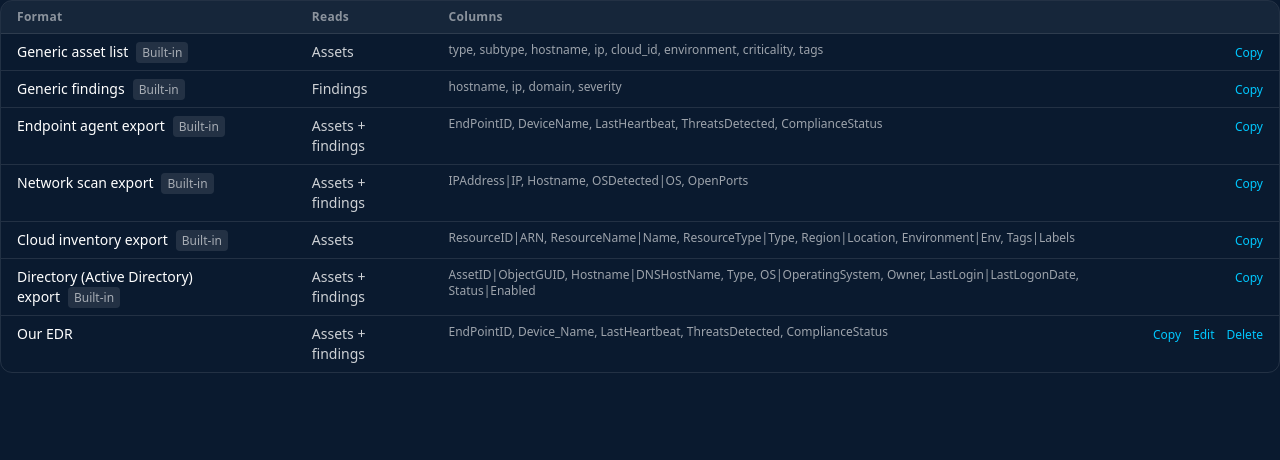
Test case: ImportProfilesPanel › deletes a custom profile after confirming
Step 1. Click the button with aria-label "Delete Our EDR" → (1245, 335), box 1226,327 -> 1263,343
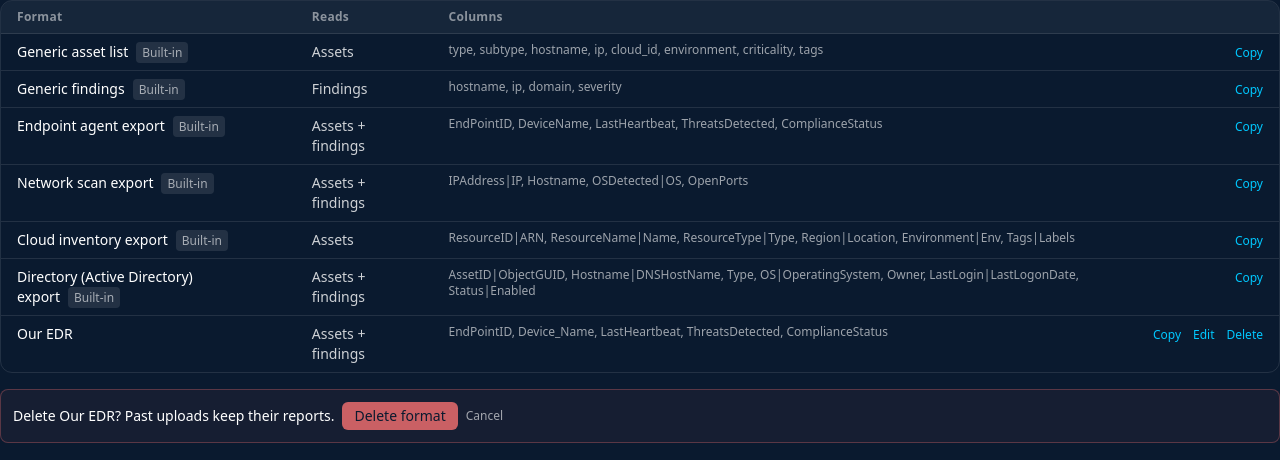
Check: the element "Delete format" shows "Delete Our EDR? Past uploads keep their reports.", box 0,389 -> 1279,443
Step 2. Click the button "Delete format" → (400, 416), box 342,402 -> 458,430
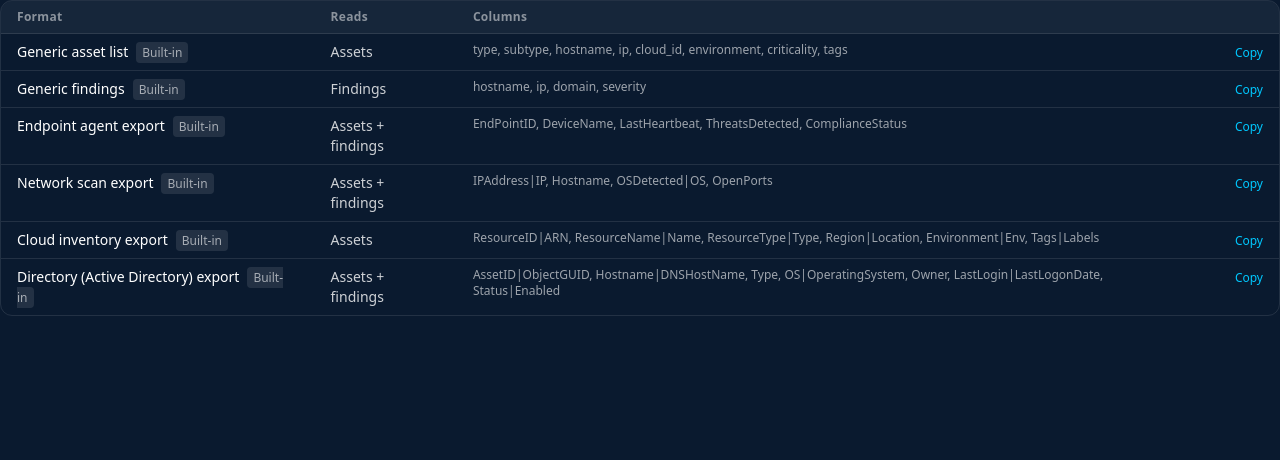
Check: the text "Our EDR" is gone
